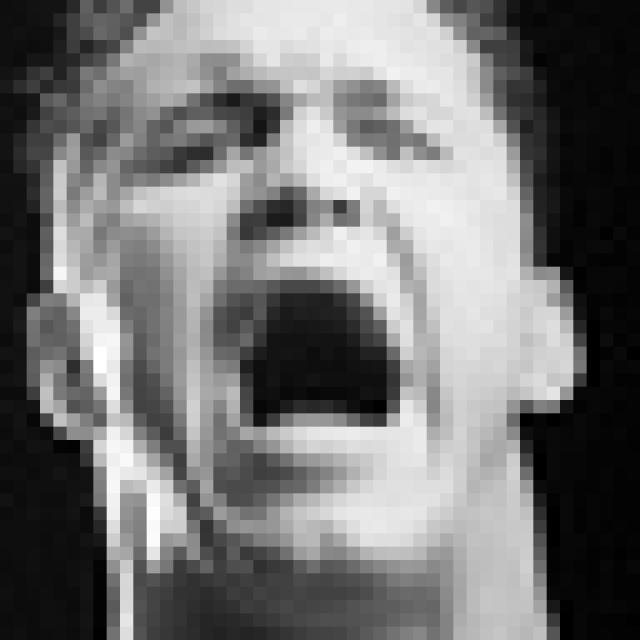angry: (132, 81, 460, 480)
